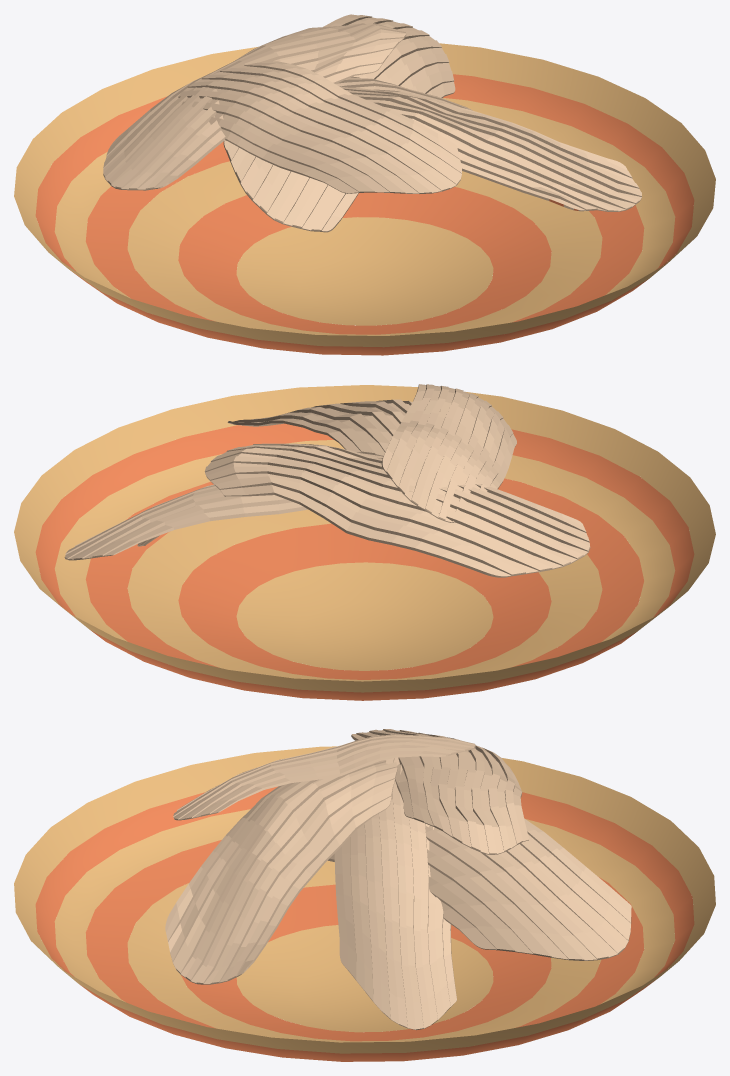
File: Kelapa.glb
The picture shows the model from 3 angles, top to bottom: view 1: azimuth 30°, elevation 25°; view 2: azimuth 150°, elevation 25°; view 3: azimuth 270°, elevation 25°; orthographic projection.
Visible parts, largest first — view 1: Plate Kelapa.001; view 2: Plate Kelapa.001; view 3: Plate Kelapa.001.
Part boxes in pixels (x1,y1,x2,y2): Plate Kelapa.001: (14,14,715,355); Plate Kelapa.001: (14,384,715,700); Plate Kelapa.001: (14,729,715,1061).
Size of the model in its own units: 7.2 by 2.51 by 7.2.
